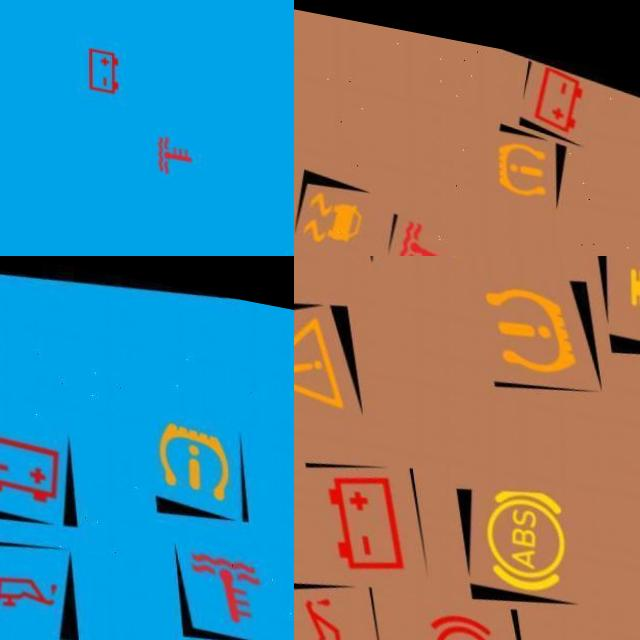High Engine Coolant Temperature: (150, 118, 200, 176)
